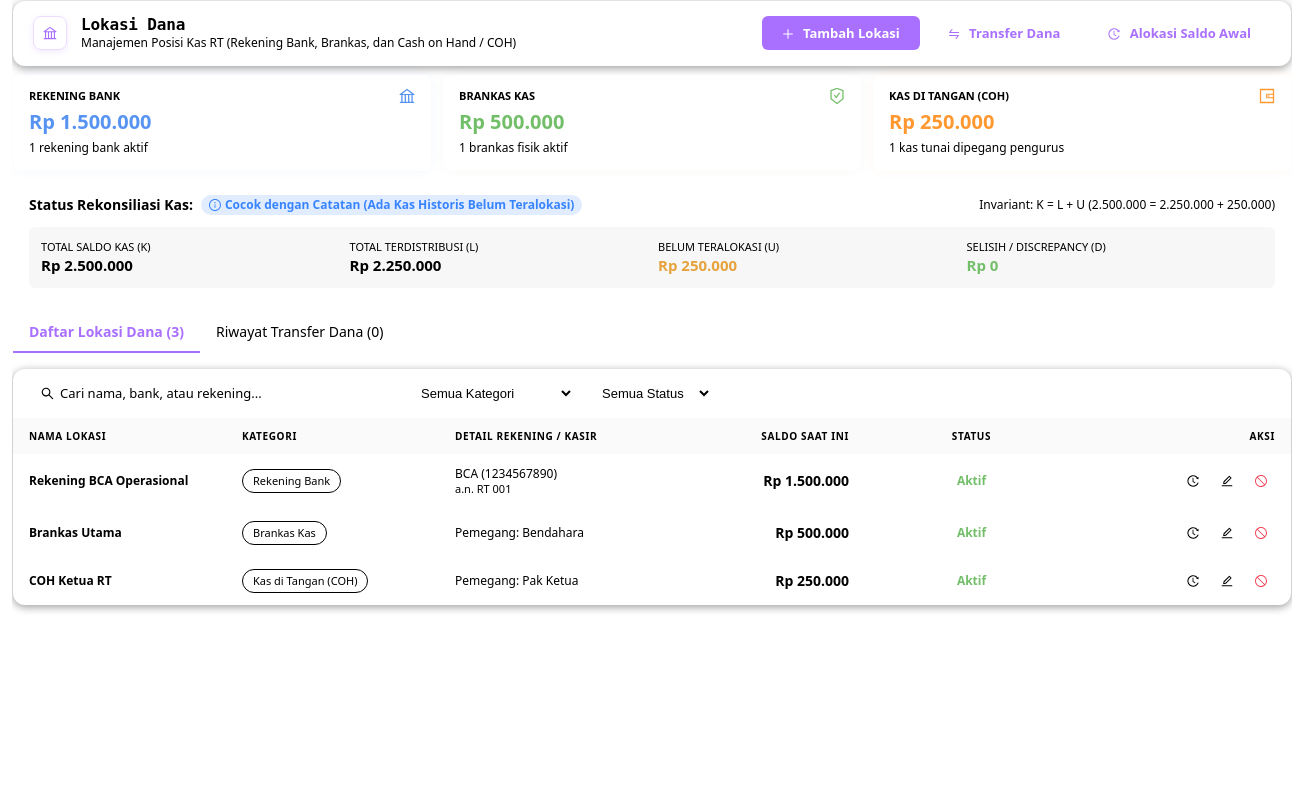
Test: FundLocationList component › filters locations by category
The width and height of the screenshot is (1292, 800).
Check: the text "Rekening BCA Operasional" is shown, box left=13, top=454, right=226, bottom=509
Select "Rekening Bank" in the 1st dropdown showing "Semua Kategori" at {"x": 490, "y": 393}, box left=405, top=377, right=574, bottom=410
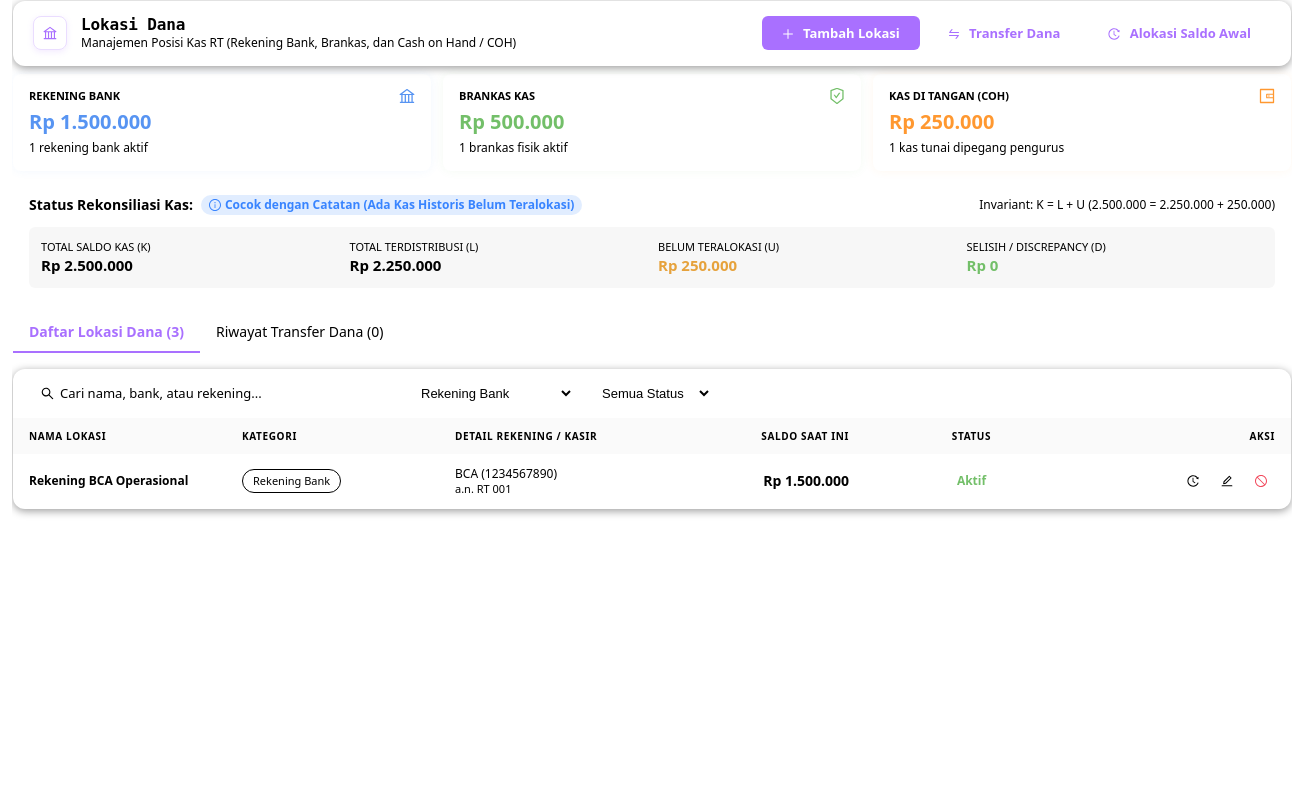
Check: the text "Rekening BCA Operasional" is shown, box left=13, top=454, right=226, bottom=509
Check: the text "Brankas Utama" is gone
Check: the text "COH Ketua RT" is gone
